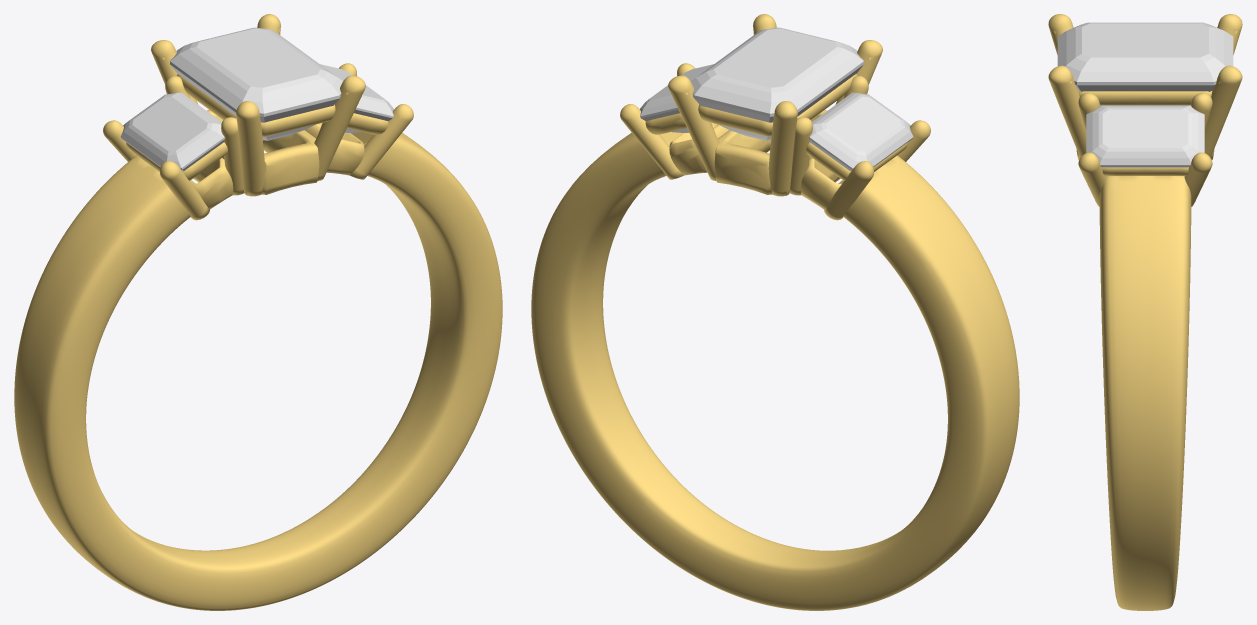
Rendered from diamond-emerald-yellowgold-4prong-straighttaperedband-3stone.glb.
3 renders of one model, left to right at view 1: azimuth 30°, elevation 25°; view 2: azimuth 150°, elevation 25°; view 3: azimuth 270°, elevation 25°, orthographic.
Parts seen in each view (by area): view 1: metal, stone, side, side.007; view 2: metal, stone, side, side.007; view 3: metal, stone, side.007.
Part boxes in pixels (bbox=[...]): metal: bbox=[14, 14, 502, 610]; stone: bbox=[170, 27, 342, 140]; side: bbox=[120, 92, 224, 171]; side.007: bbox=[320, 64, 393, 132]; metal: bbox=[531, 14, 1019, 610]; stone: bbox=[691, 27, 863, 140]; side: bbox=[809, 92, 913, 171]; side.007: bbox=[640, 64, 713, 132]; metal: bbox=[1048, 14, 1242, 610]; stone: bbox=[1057, 22, 1233, 91]; side.007: bbox=[1086, 105, 1204, 167].
Size of the model in its own units: 20.51 by 22.95 by 7.4.
